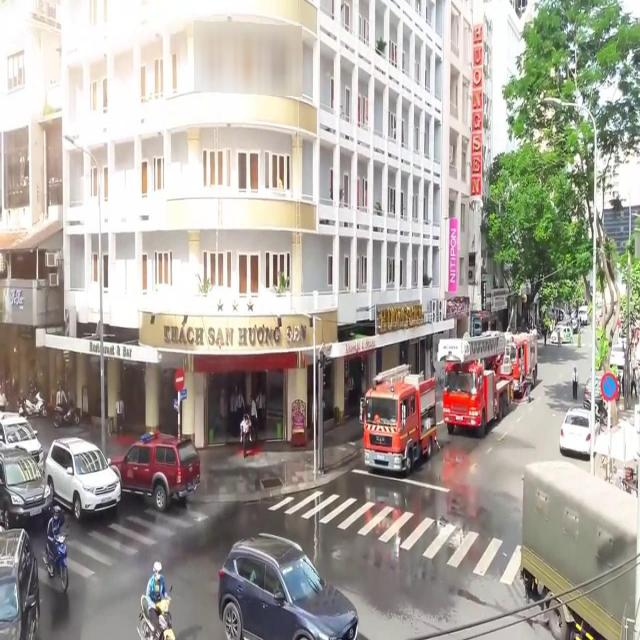car: (213, 537, 365, 640), (110, 431, 198, 511), (45, 431, 121, 515), (0, 527, 40, 640), (0, 443, 52, 527), (0, 413, 44, 473), (559, 405, 599, 459), (583, 375, 607, 408)
motorcycle: (135, 559, 175, 640), (42, 504, 68, 592)
truck: (517, 454, 640, 640), (365, 364, 437, 474), (436, 336, 512, 434), (496, 329, 537, 398)
